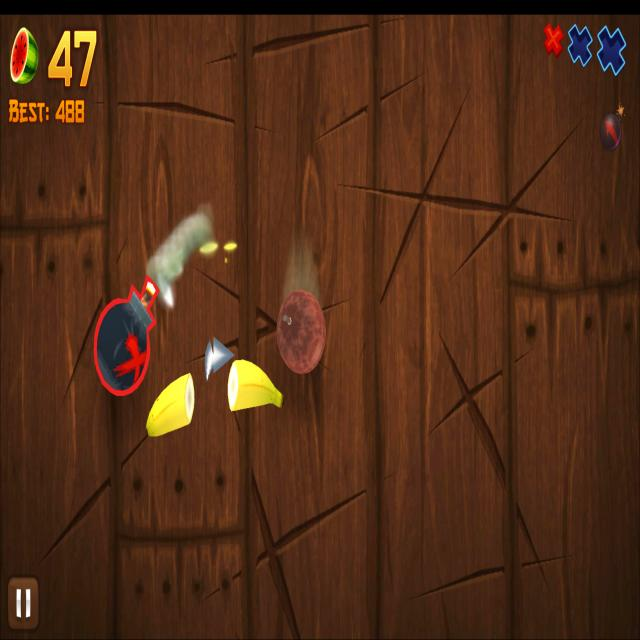bomb: (92, 275, 160, 397)
fruit: (277, 289, 325, 375)
